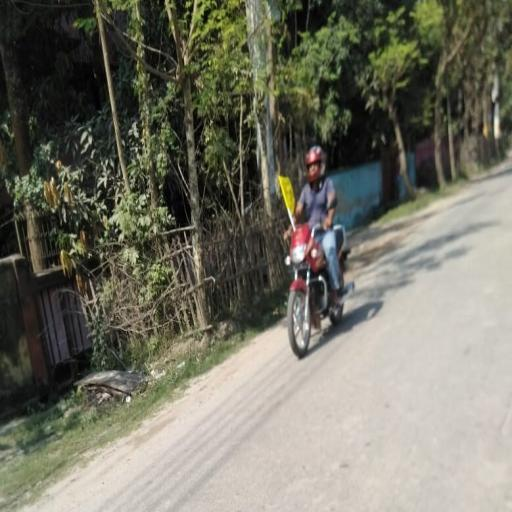helmet: (282, 143, 346, 318), (304, 144, 326, 182)
overloading: (280, 216, 356, 358)
